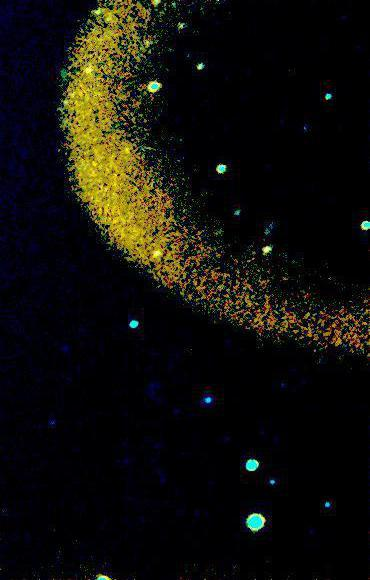star: (111, 137, 141, 167)
